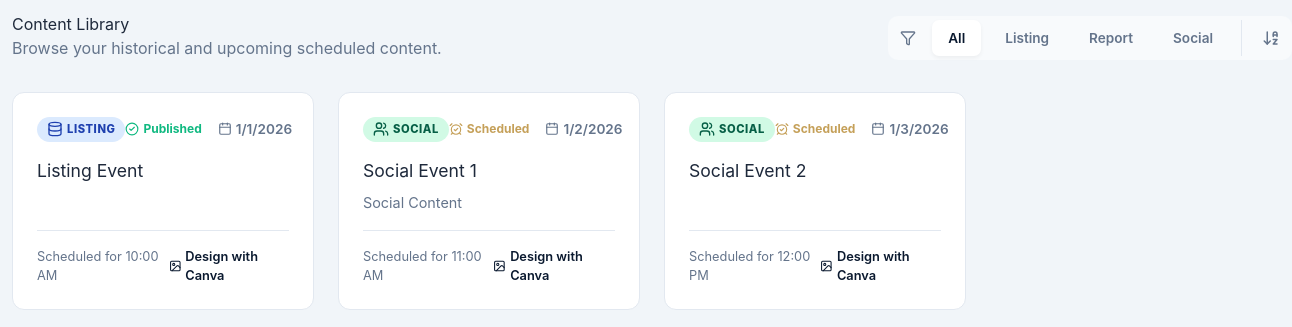
Test case: ContentLibrary Component › shows empty filter state when no events match
// Click the report filter
Step 1. Click the button "report" → (1111, 38), box [1073,20,1149,56]
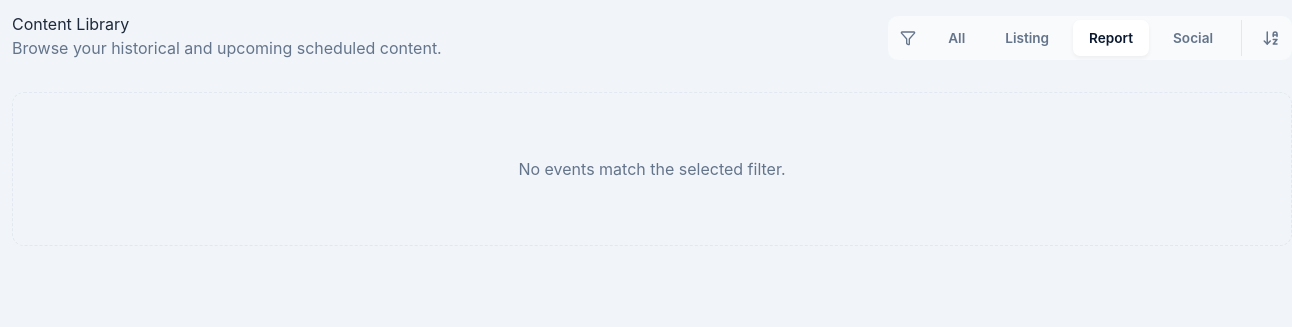
expect the text "No events match the selected filter." is shown: met, box [12,92,1291,246]
expect the heading "Listing Event" is gone: met
